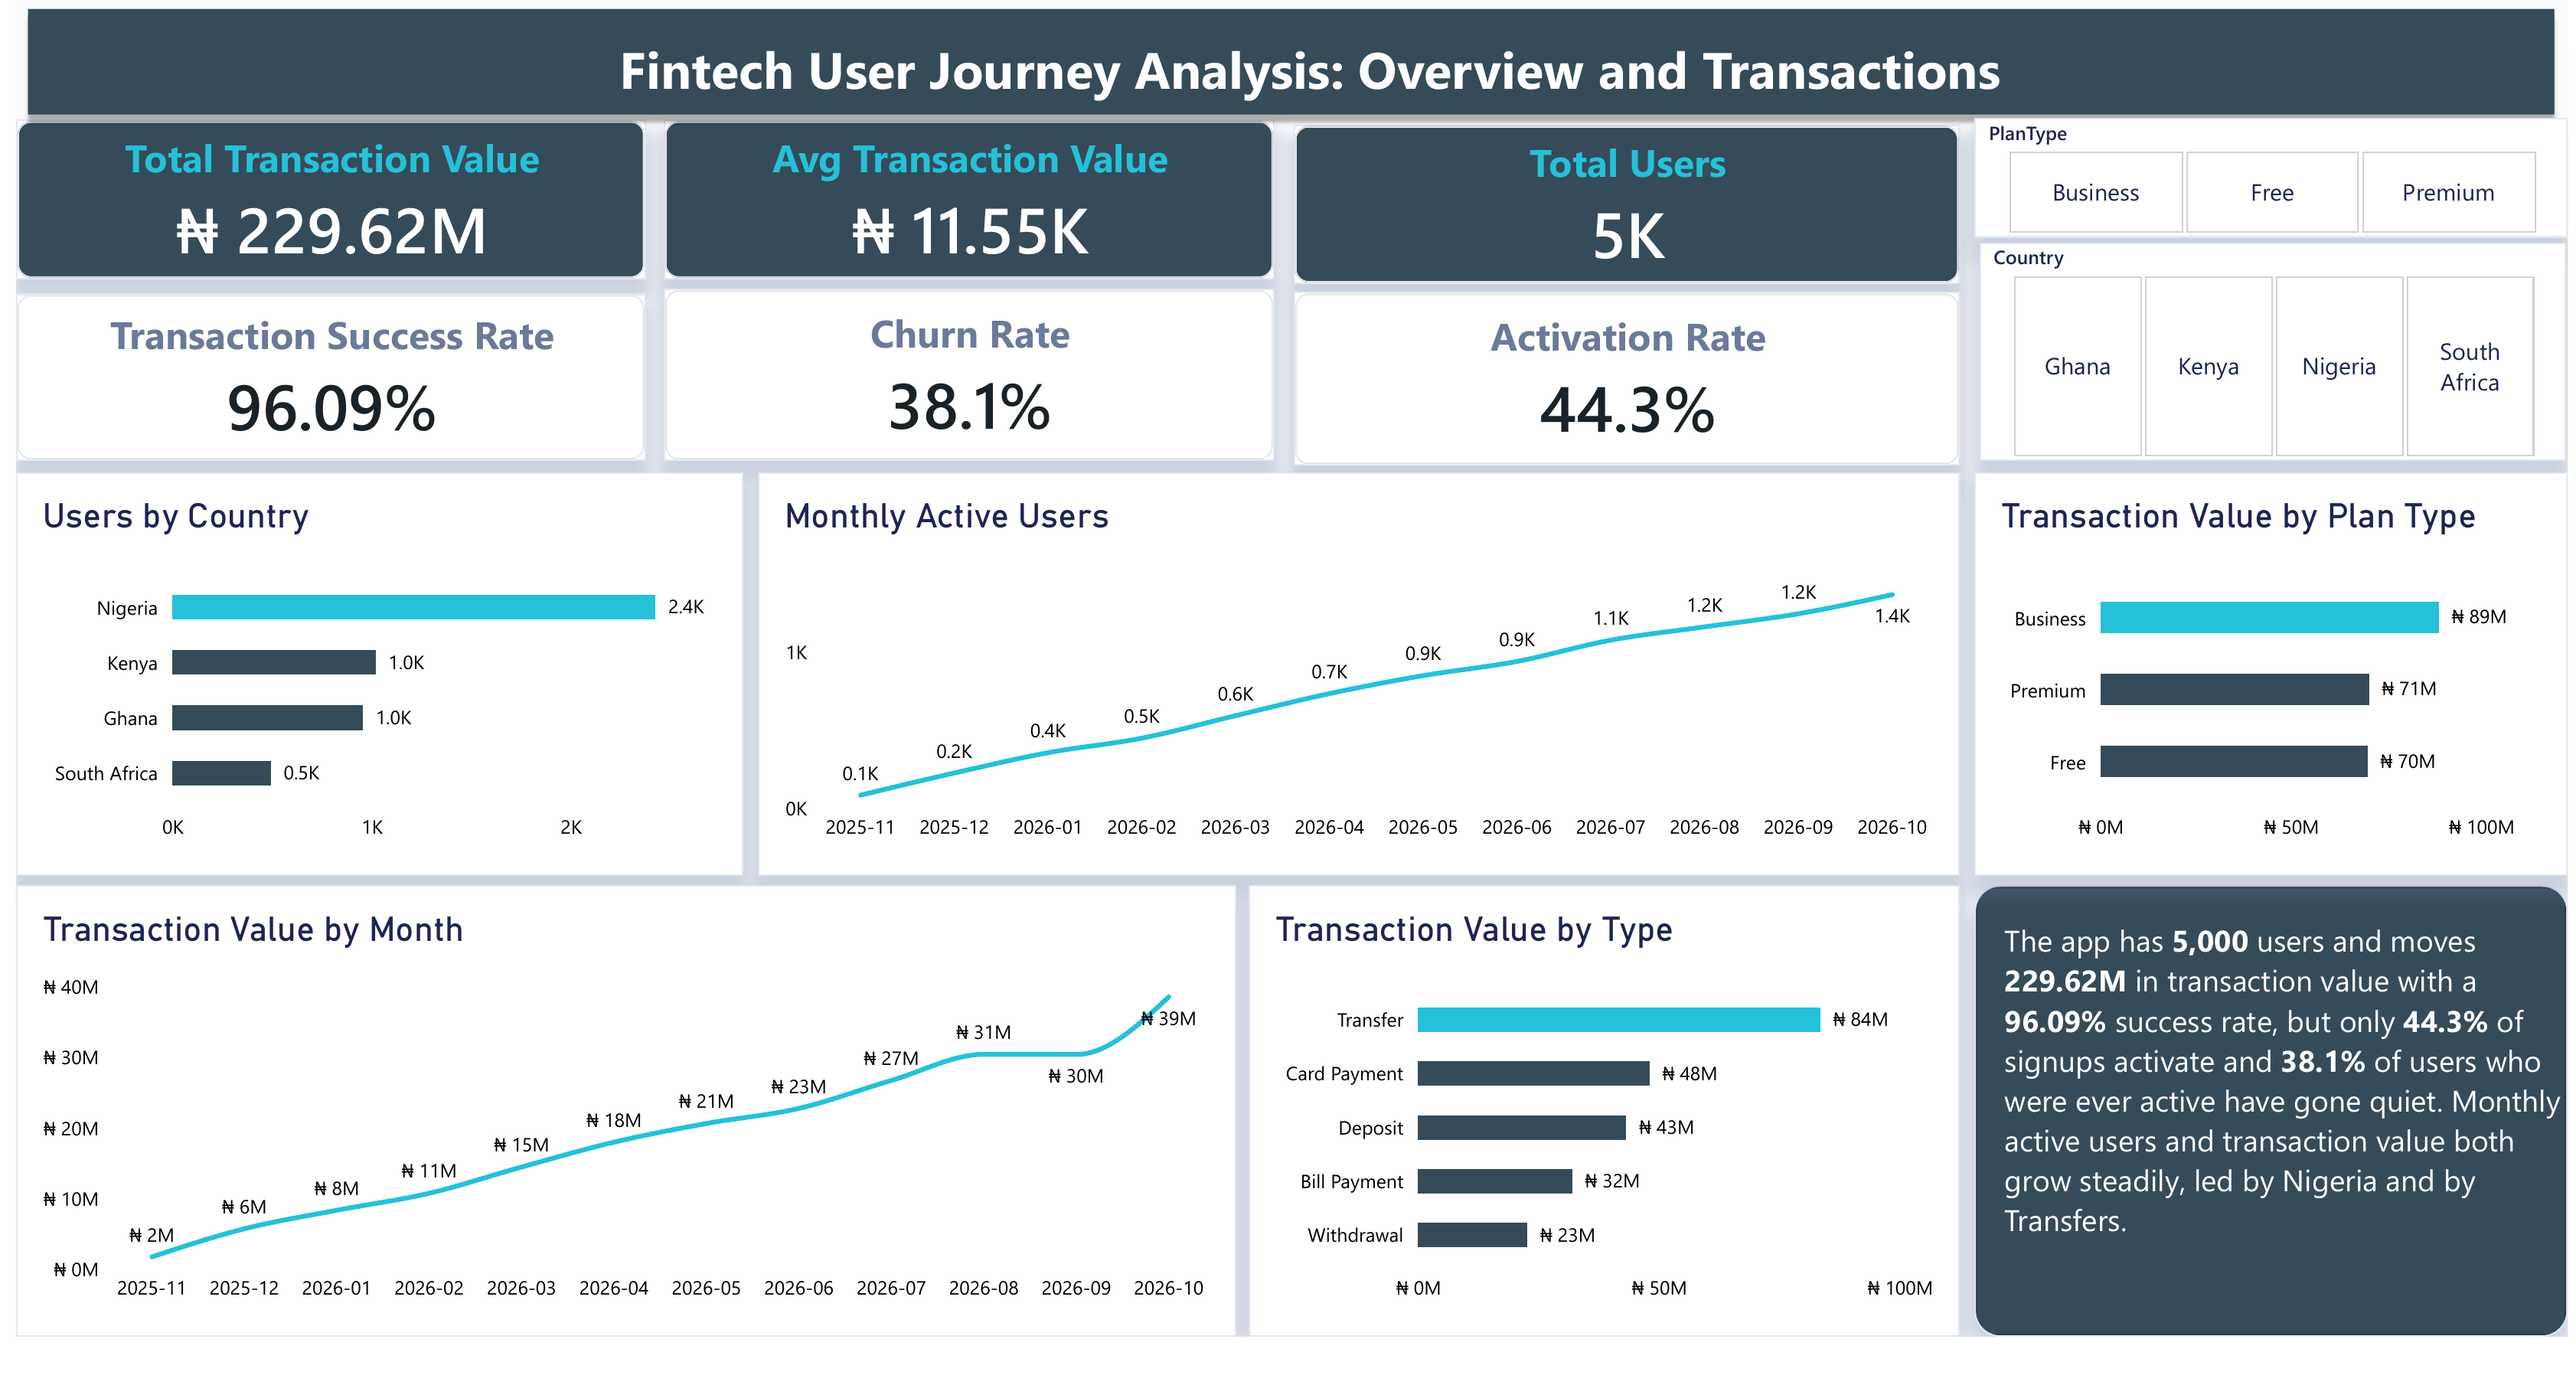

Layout of this report page (visuals, bound fields, positions):
{"tool":"powerbi","page":{"name":"Overview ","canvas":[1600,840],"ordinal":0},"visuals":[{"type":"cardVisual","fields":{"Data":["DAX.Avg Transaction Value"]},"box":[405.5,76.7,383.7,100.1],"z":0},{"type":"cardVisual","fields":{"Data":["DAX.Total Transaction Value"]},"box":[0,77,395.3,100.3],"z":1000},{"type":"cardVisual","fields":{"Data":["DAX.Transaction Success Rate"]},"box":[0,186.1,395.3,105.2],"z":2000},{"type":"cardVisual","fields":{"Data":["DAX.Churn Rate"]},"box":[405.5,183.3,383.7,107.8],"z":7500},{"type":"cardVisual","title":"Total Users","fields":{"Data":["DAX.Total Users"]},"box":[801,79.6,418.4,100.1],"z":7781},{"type":"cardVisual","fields":{"Data":["DAX.Activation Rate"]},"box":[801,184.8,418.4,109.1],"z":7812},{"type":"lineChart","title":"Monthly Active Users ","fields":{"Category":["DateTable.Year-Month"],"Y":["DAX.Monthly Active Users"]},"box":[465.1,298,754.4,252.9],"z":7843},{"type":"clusteredBarChart","title":" Users by Country","fields":{"Category":["vw_UserSummary.Country"],"Y":["DAX.Total Users"]},"box":[0,297.7,455.6,252.8],"z":7875},{"type":"clusteredBarChart","title":"Transaction Value by Type","fields":{"Category":["Transactions.TransactionType"],"Y":["DAX.Total Transaction Value"]},"box":[773.3,556.7,446.2,283.4],"z":9437},{"type":"shape","box":[0,0,1598.8,81.4],"z":11000},{"type":"textbox","box":[39,23.4,1545.5,46.8],"z":12000},{"type":"shape","box":[1228.2,556.7,372.1,283.4],"z":13000},{"type":"lineChart","title":"Transaction Value by Month","fields":{"Category":["DateTable.Year-Month"],"Y":["DAX.Total Transaction Value"]},"box":[0,557.1,764.9,283.1],"z":14000},{"type":"slicer","fields":{"Values":["vw_UserSummary.PlanType"]},"box":[1228,75.6,372.3,75.6],"z":15000},{"type":"textbox","box":[1247.4,578.8,351.6,233.6],"z":16000},{"type":"slicer","fields":{"Values":["vw_UserSummary.Country"]},"box":[1231,154.2,367.8,136.4],"z":16500},{"type":"clusteredBarChart","title":"Transaction Value by Plan Type","fields":{"Category":["vw_UserSummary.PlanType"],"Y":["DAX.Total Transaction Value"]},"box":[1228.2,298,372.1,252.9],"z":19000}]}

Visuals, with their boxes in screenshot pixels (x1, y1, x2, y2), scaled from the page's 1600x840 canvas onto the 2576x1375 screenshot:
cardVisual - DAX.Avg Transaction Value: crop(653, 126, 1271, 289)
cardVisual - DAX.Total Transaction Value: crop(0, 126, 636, 290)
cardVisual - DAX.Transaction Success Rate: crop(0, 305, 636, 477)
cardVisual - DAX.Churn Rate: crop(653, 300, 1271, 476)
"Total Users" cardVisual: crop(1290, 130, 1964, 294)
cardVisual - DAX.Activation Rate: crop(1290, 302, 1964, 481)
"Monthly Active Users " lineChart: crop(749, 488, 1964, 902)
" Users by Country" clusteredBarChart: crop(0, 488, 733, 901)
"Transaction Value by Type" clusteredBarChart: crop(1245, 911, 1964, 1374)
shape: crop(0, 0, 2574, 133)
textbox: crop(63, 38, 2551, 115)
shape: crop(1977, 911, 2575, 1374)
"Transaction Value by Month" lineChart: crop(0, 912, 1232, 1374)
slicer - vw_UserSummary.PlanType: crop(1977, 124, 2575, 247)
textbox: crop(2008, 948, 2574, 1330)
slicer - vw_UserSummary.Country: crop(1982, 253, 2574, 475)
"Transaction Value by Plan Type" clusteredBarChart: crop(1977, 488, 2575, 902)
